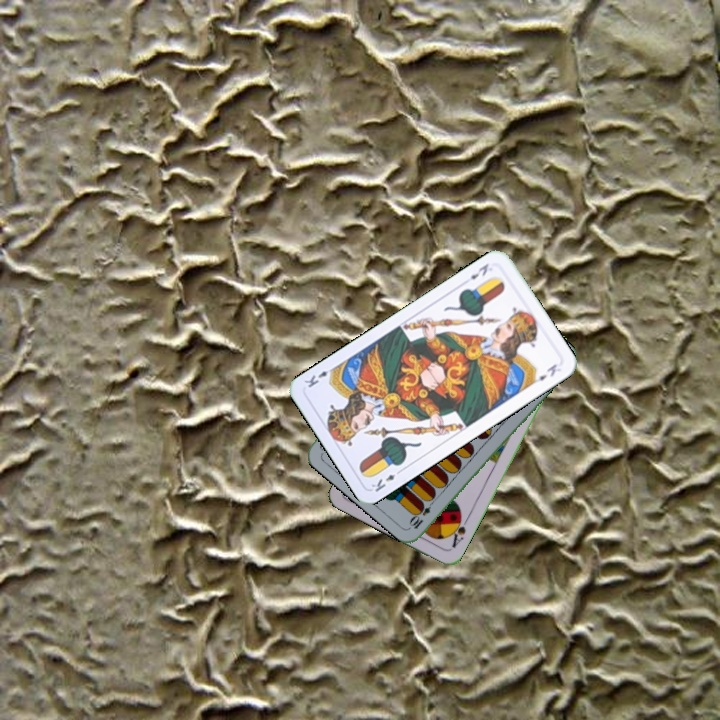E10: (406, 495, 437, 531)
EK: (367, 465, 405, 495), (466, 259, 491, 282)
SA: (445, 511, 471, 550)
